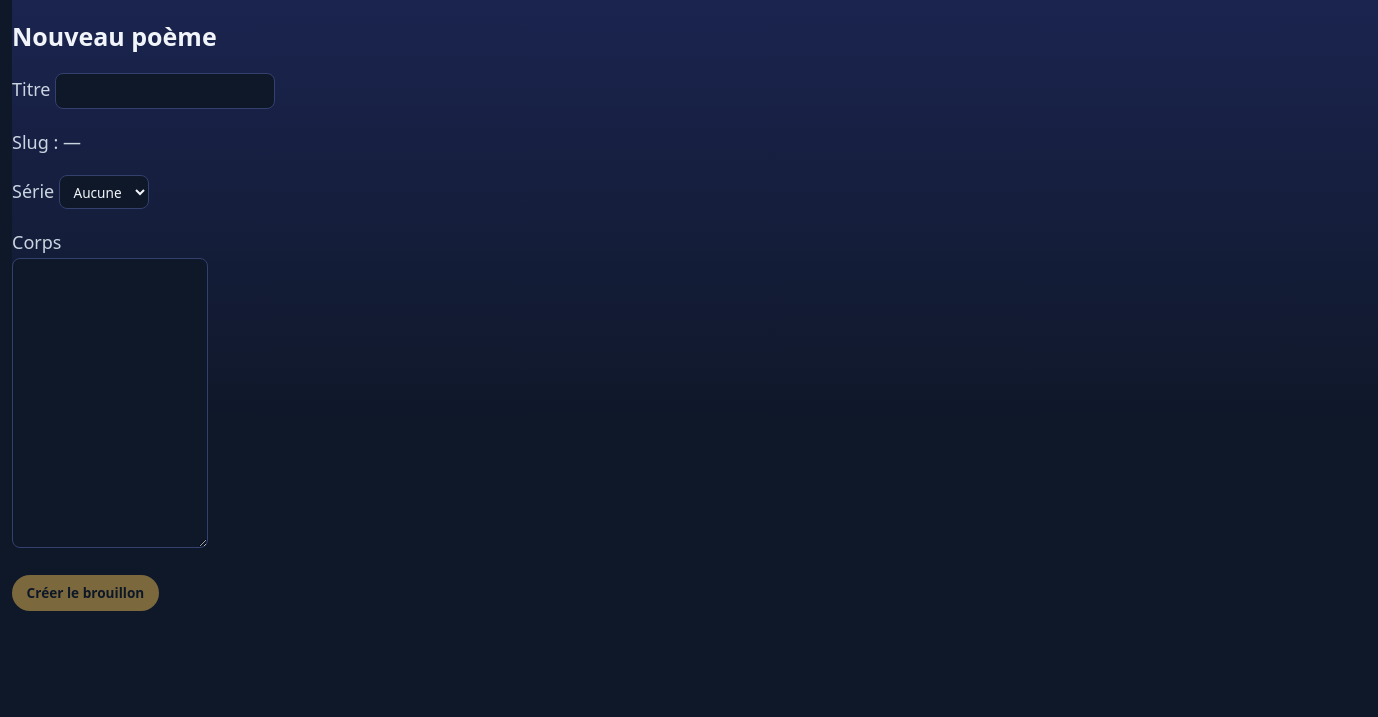
PoemEditorPage › creates a draft and navigates to its editor
In the field labelled "Titre": (165, 91) [55,73,275,109], type "Un poème"
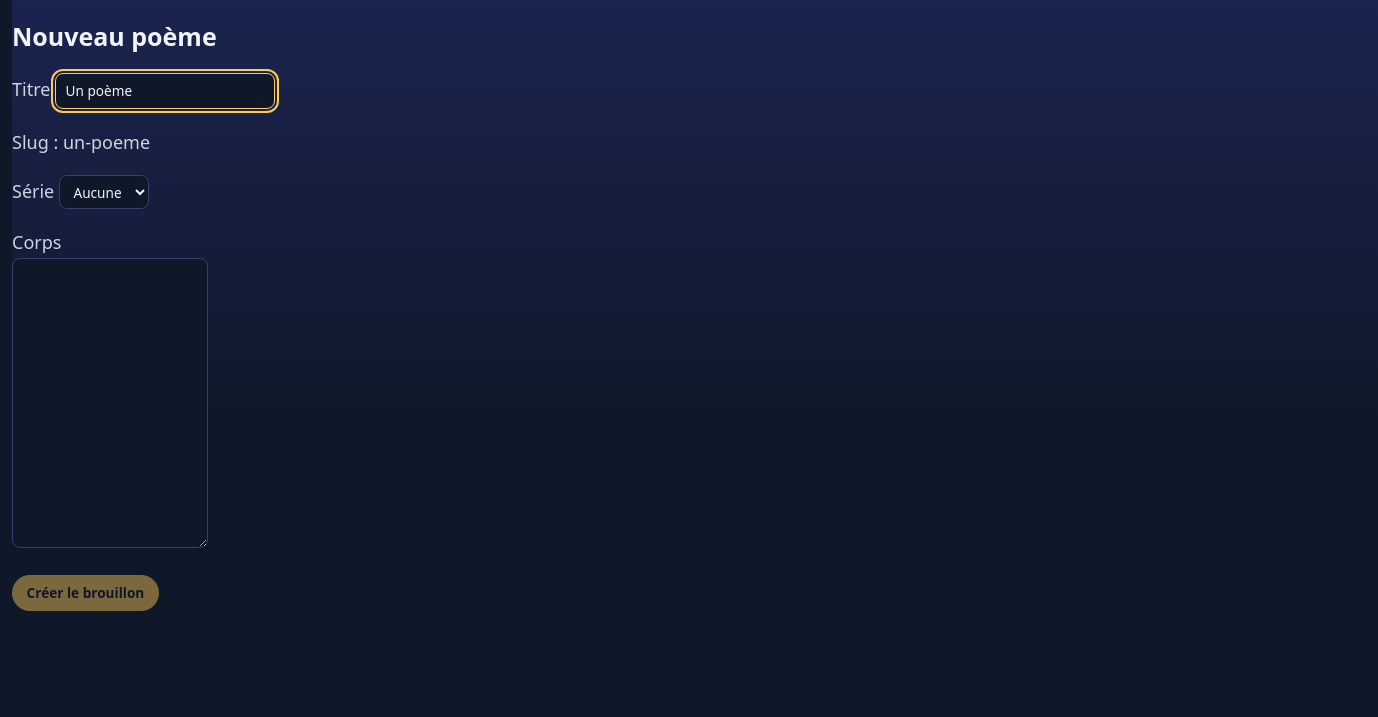
In the text box labelled "Corps": (110, 403) [12,258,208,548], type "Un corps."
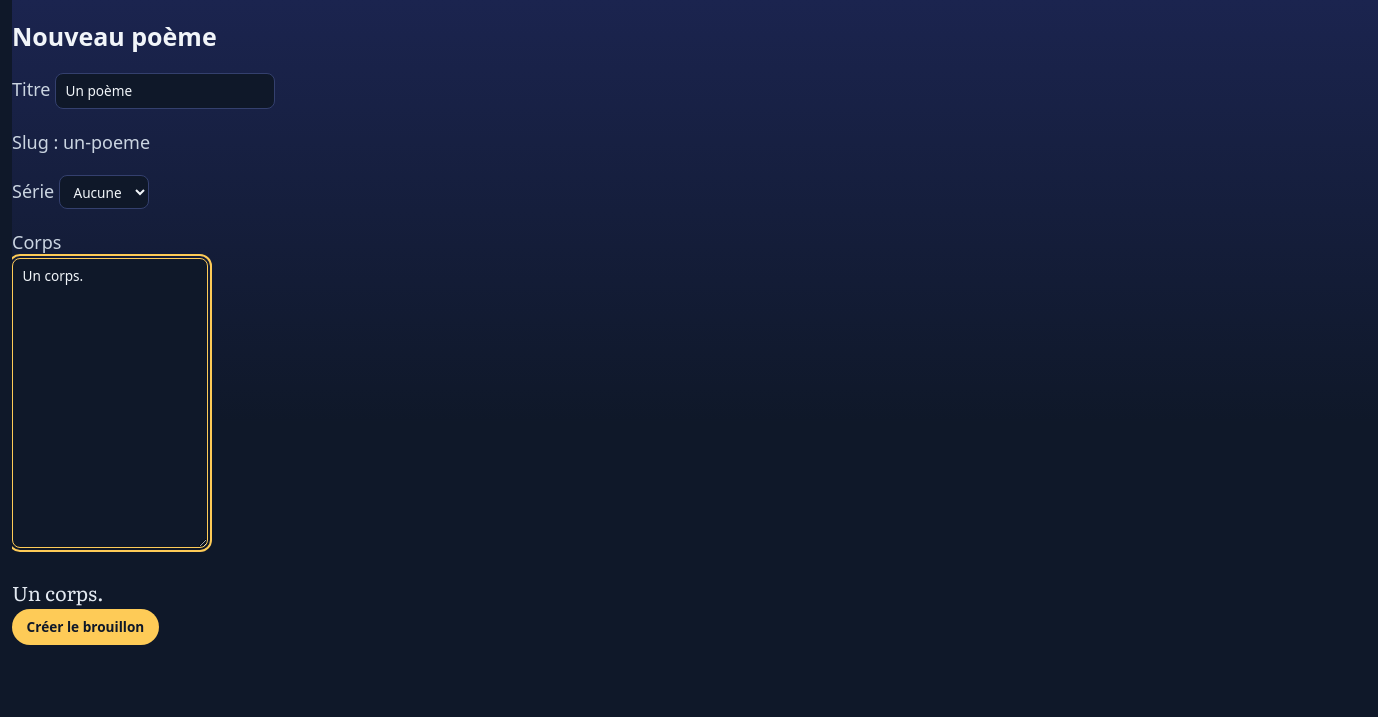
Click the button "Créer le brouillon": (85, 627) [12,609,159,645]
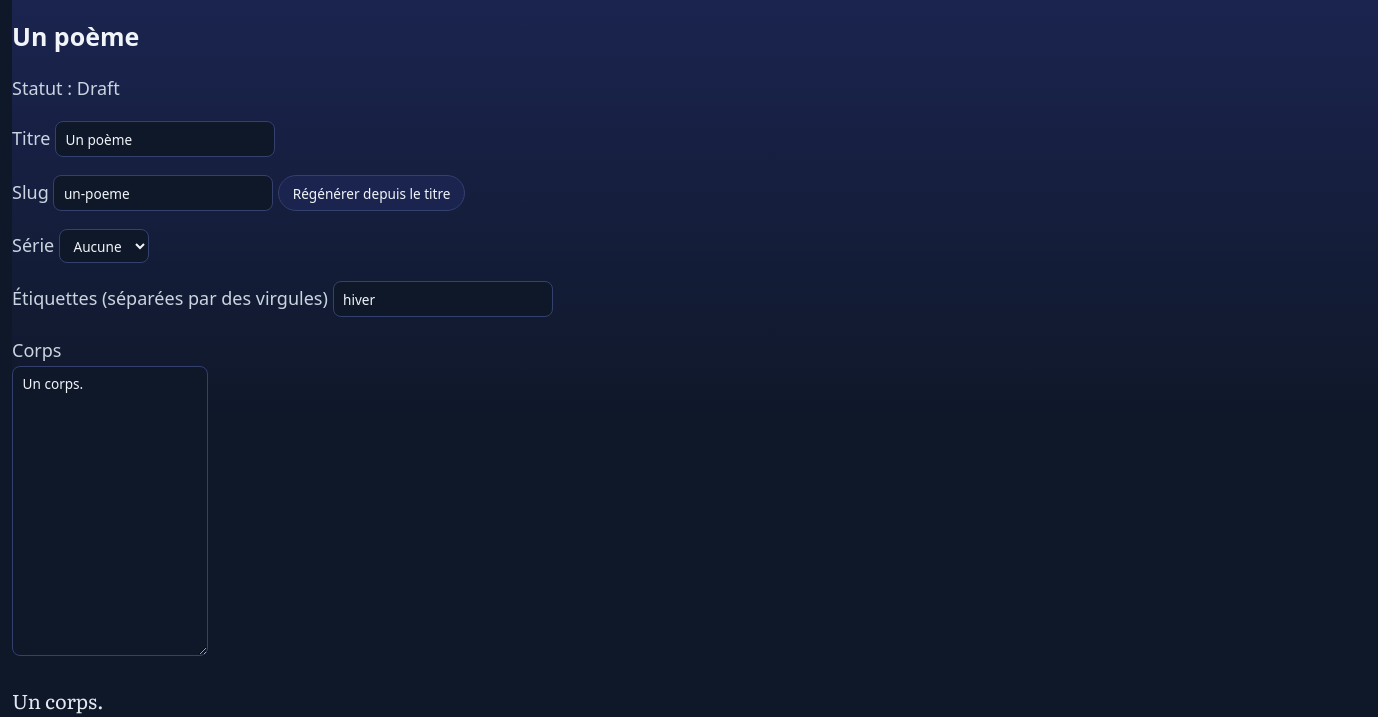
Check: the heading "Un poème" is shown, box [12,19,139,53]
